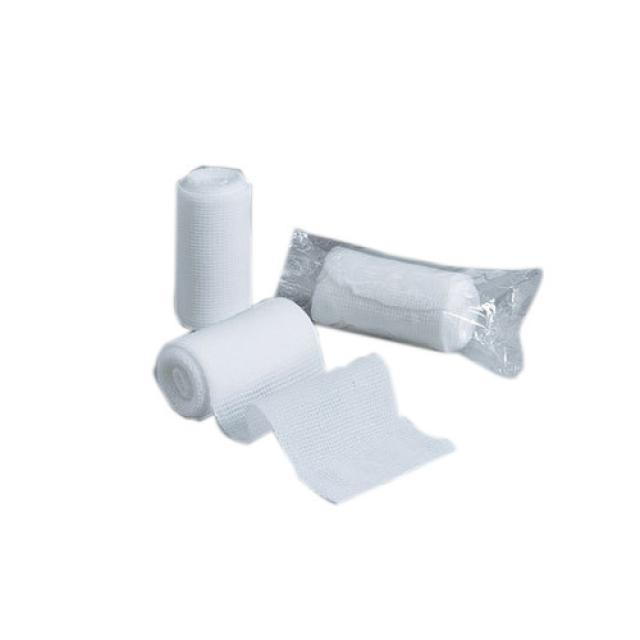B3: (257, 219, 562, 385), (164, 151, 264, 341)
